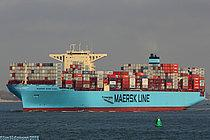Ship: (6, 40, 209, 115)
